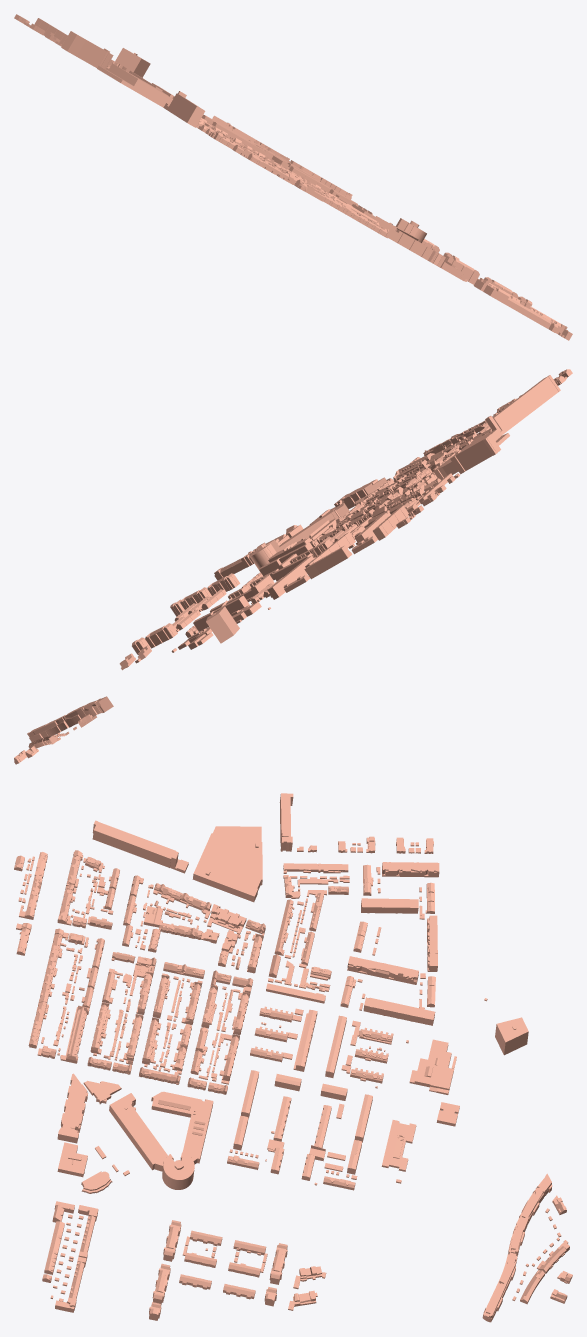
3 views of the same model, one above another, from view 1: azimuth 30°, elevation 25°; view 2: azimuth 150°, elevation 25°; view 3: azimuth 270°, elevation 25° (orthographic). The views are drawn at different scales.
Size of the model in its own units: 546 by 436 by 642.
